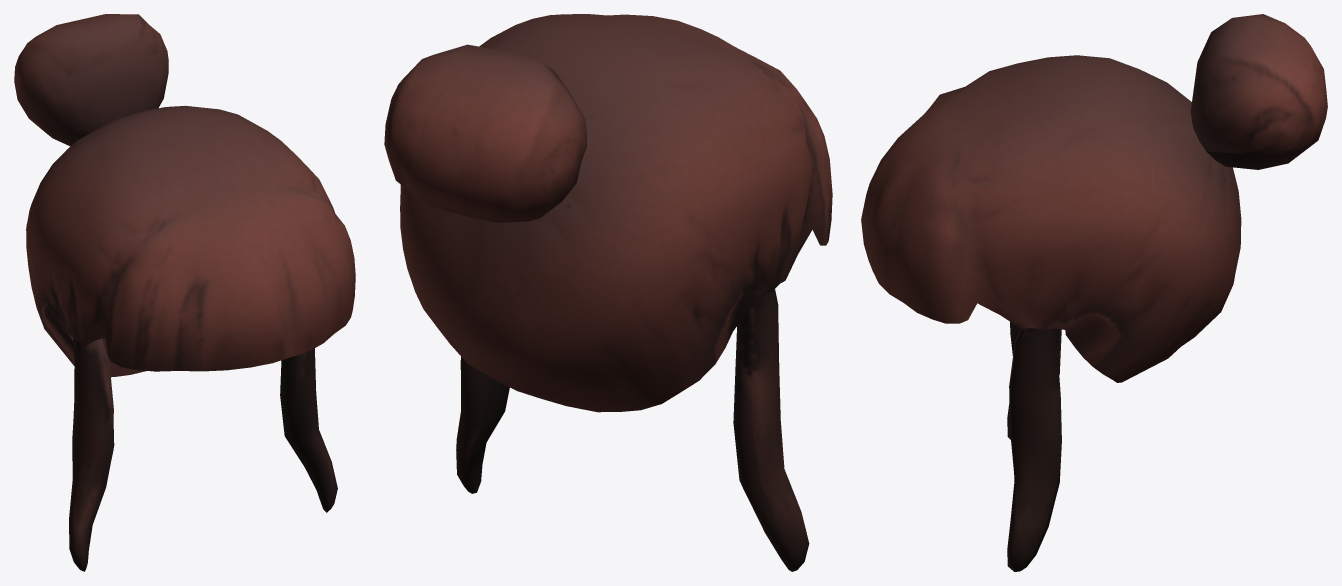
The model's file is Hair_F01 (2).fbx.
3 renders of one model, left to right at view 1: azimuth 30°, elevation 25°; view 2: azimuth 150°, elevation 25°; view 3: azimuth 270°, elevation 25°, orthographic. The views are drawn at different scales.
Parts seen in each view (by area): view 1: Hair_F01; view 2: Hair_F01; view 3: Hair_F01.
Boxes of the visible parts, box(x1,y1,x2,y2) form: Hair_F01: box(14, 14, 355, 571); Hair_F01: box(384, 14, 832, 571); Hair_F01: box(861, 14, 1327, 571).
Size of the model in its own units: 3.45 by 5.49 by 4.88.
